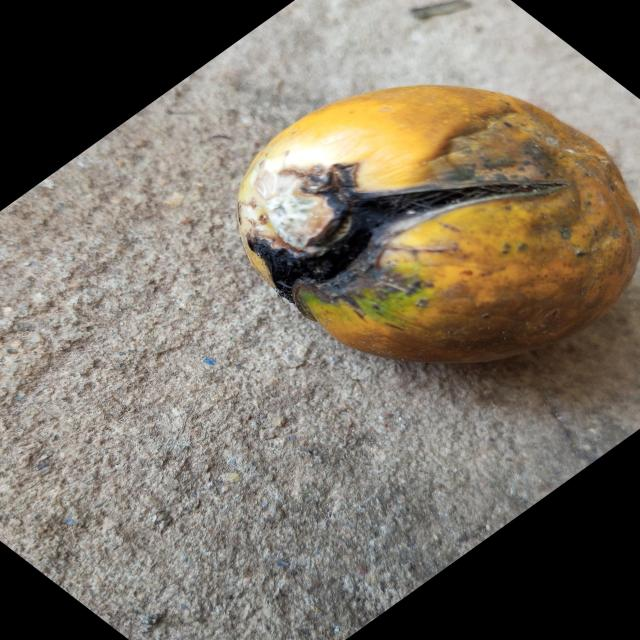damaged: (237, 84, 640, 367)
